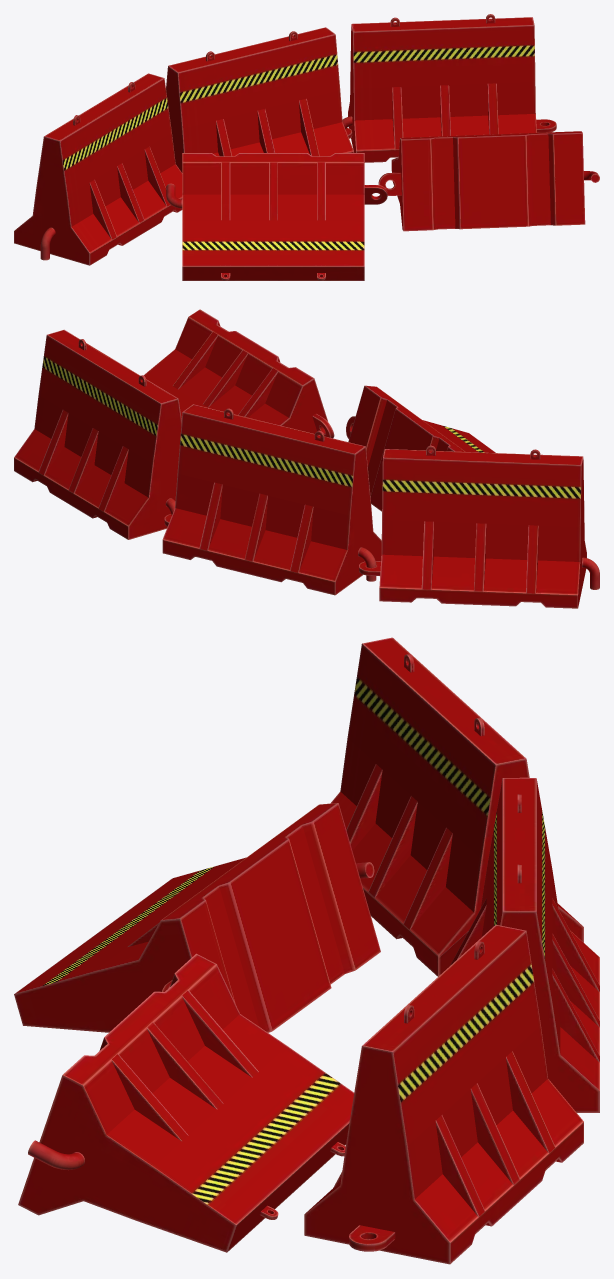
The model's file is plastic_barrier.glb.
The picture shows the model from 3 angles, top to bottom: view 1: azimuth 30°, elevation 25°; view 2: azimuth 150°, elevation 25°; view 3: azimuth 270°, elevation 25°; orthographic projection. The views are drawn at different scales.
Parts seen in each view (by area): view 1: Barrier.002, Barrier.000, Barrier.001, Barrier.008, Barrier.003; view 2: Barrier.001, Barrier.008, Barrier.000, Barrier.003, Barrier.002; view 3: Barrier.003, Barrier.000, Barrier.002, Barrier.001, Barrier.008.
Boxes of the visible parts, x1,y1,x2,y2 form: Barrier.002: (166,153,387,280); Barrier.000: (342,14,556,162); Barrier.001: (14,73,182,265); Barrier.008: (166,27,353,172); Barrier.003: (378,131,599,231); Barrier.001: (359,445,599,608); Barrier.008: (162,404,381,595); Barrier.000: (14,329,181,539); Barrier.003: (144,309,334,438); Barrier.002: (346,385,495,511); Barrier.003: (18,953,354,1252); Barrier.000: (304,924,583,1264); Barrier.002: (14,803,380,1032); Barrier.001: (330,637,583,976); Barrier.008: (439,777,599,1112).
Size of the model in its own units: 100 by 23.54 by 56.57.
Materials: 1 (1 with a texture image).
